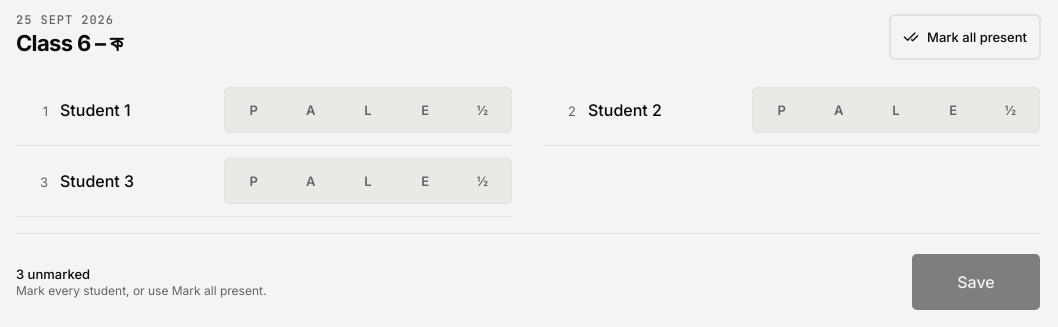
Test: RollCall › undo returns to unmarked and drops the bulk stamp
Click the button "Mark all present".
click(965, 37)  # box [890,15,1040,59]
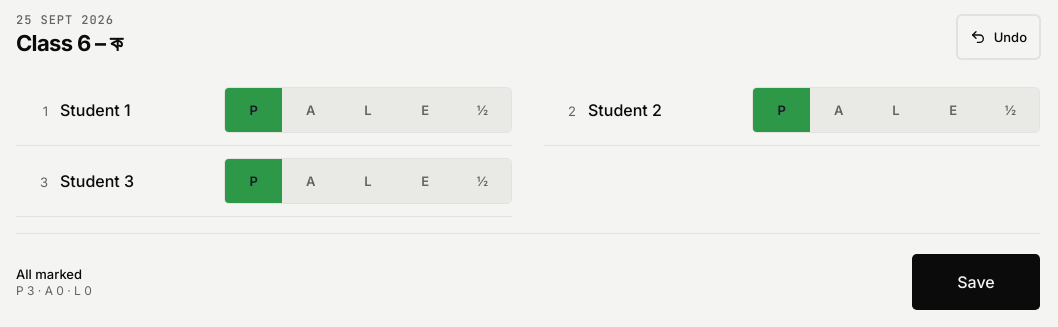
Click the button "Undo".
click(998, 37)  # box [957,15,1040,59]
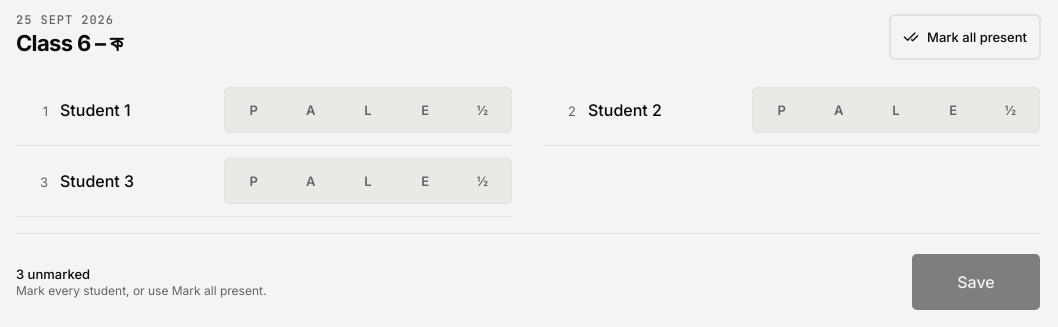
Expected: the text "3 unmarked" is shown, [16,266,90,282]
